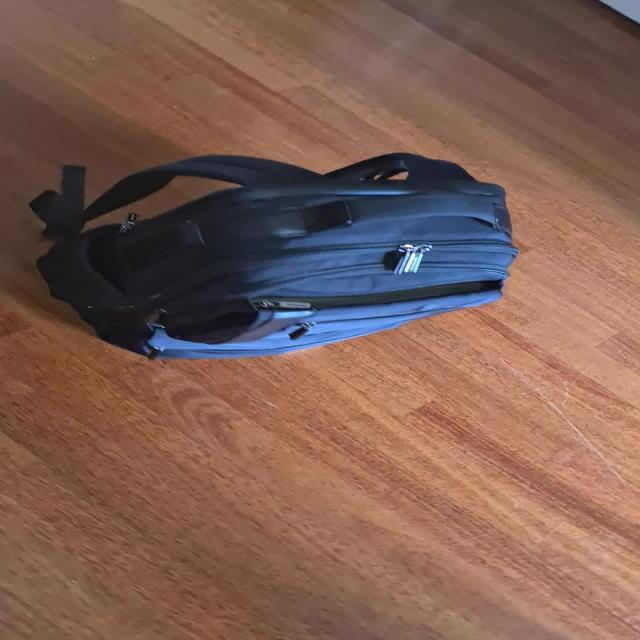backpack: (23, 144, 534, 361)
